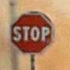stop: (9, 11, 55, 54)
